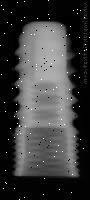Sterngold: (9, 17, 80, 177)
